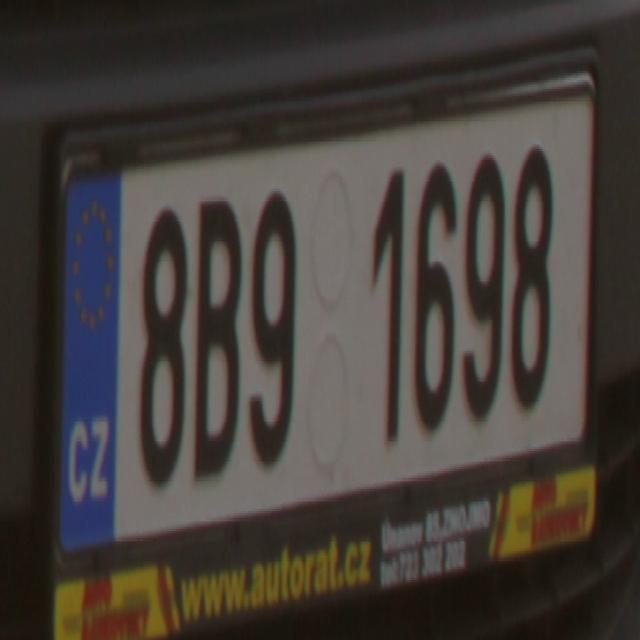1: (369, 153, 404, 444)
6: (412, 160, 458, 440)
8: (135, 200, 189, 491), (511, 136, 554, 424)
9: (248, 186, 297, 484), (462, 144, 506, 433)
B: (194, 191, 242, 489)
